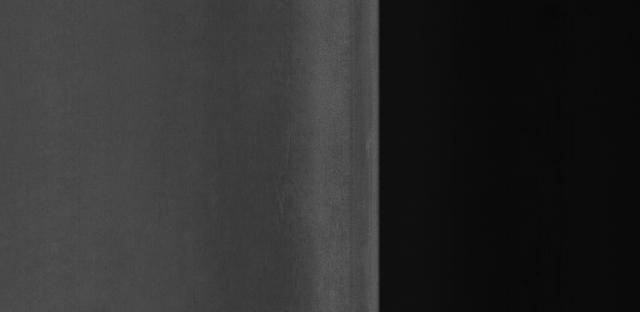silk_spot: (257, 141, 326, 227)
